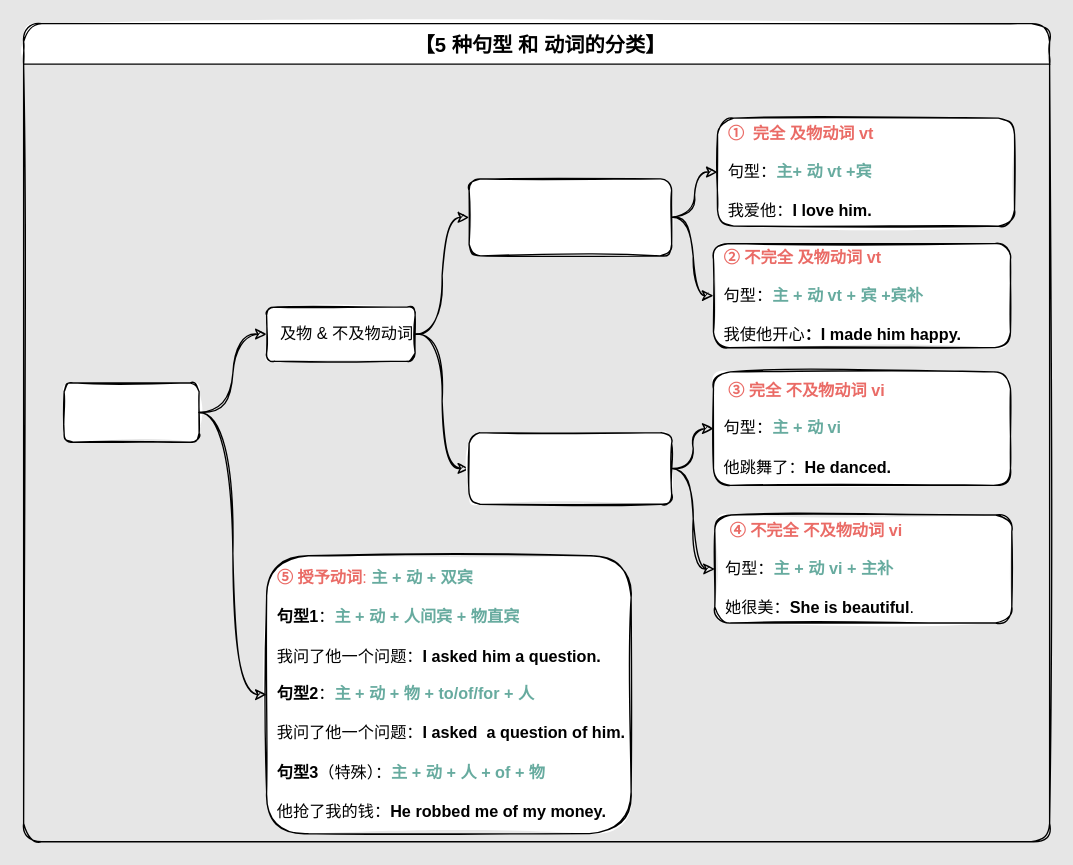
The diagram is 1073 pixels wide and 865 high, and some of its shapes have lost their labels. Here are the shapes that lost their labels. From the top down, the box of each, then its label:
(468, 178, 672, 256): 及物动词 vt 特点：有宾语+有被动语态
(63, 382, 199, 442): 5 种基本句型 & 动词的分类
(468, 431, 672, 504): 不及物动词 vi 特点：没宾语+没被动语态
